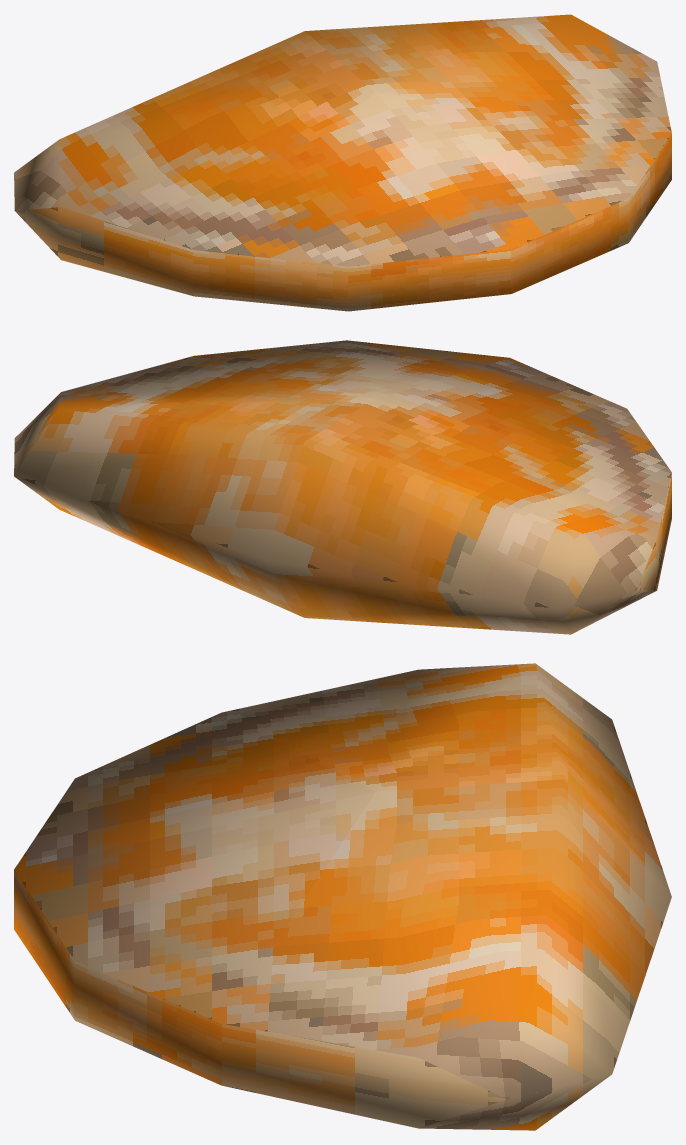
File: edb_filled_pastry_l1.fbx
3 renders of one model, top to bottom at view 1: azimuth 30°, elevation 25°; view 2: azimuth 150°, elevation 25°; view 3: azimuth 270°, elevation 25°, orthographic. The views are drawn at different scales.
Parts seen in each view (by area): view 1: mesh_node; view 2: mesh_node; view 3: mesh_node.
Boxes of the visible parts, left/top/right/bottom form: mesh_node: left=14, top=14, right=671, bottom=311; mesh_node: left=14, top=340, right=671, bottom=634; mesh_node: left=14, top=663, right=671, bottom=1130.
Bounding box in the file's own units: 0.1297 × 0.0352 × 0.089.
